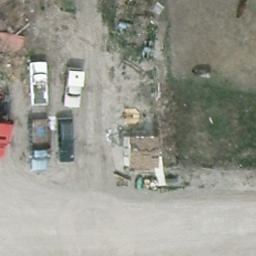car: (57, 117, 76, 164)
pickup: (29, 60, 51, 107), (63, 70, 83, 110)
truck: (22, 122, 52, 171), (0, 83, 15, 160)
